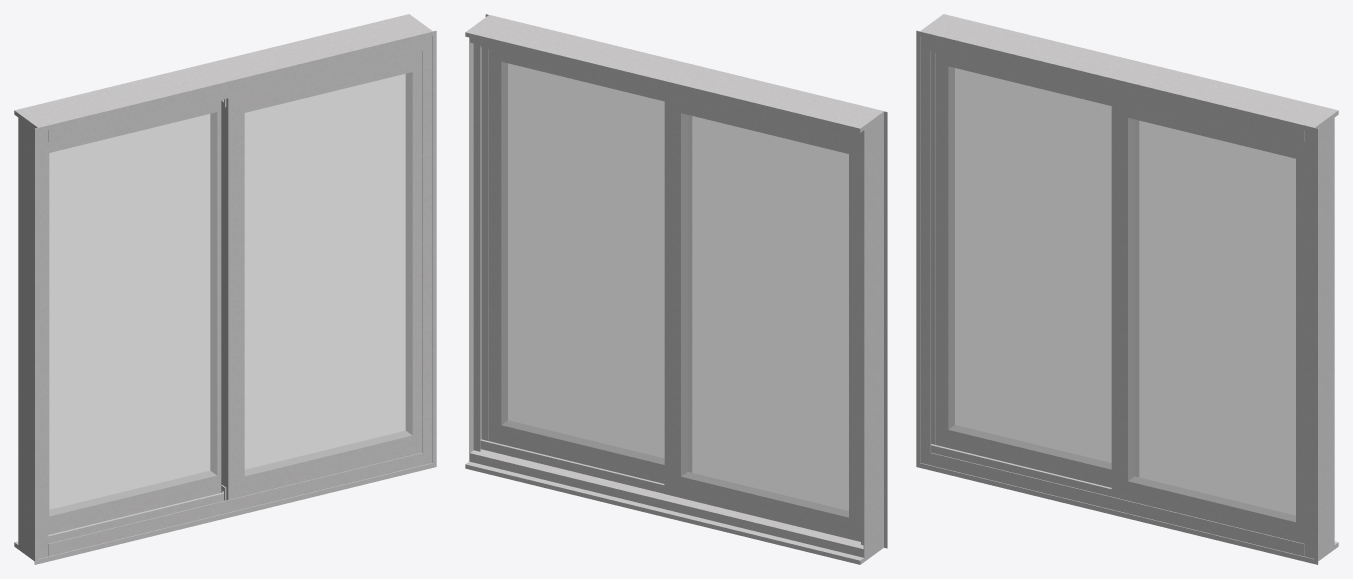
Rendered from ClassRoomWindow.fbx.
3 renders of one model, left to right at view 1: azimuth 30°, elevation 25°; view 2: azimuth 150°, elevation 25°; view 3: azimuth 330°, elevation 25°, orthographic.
Parts seen in each view (by area): view 1: ClassRoomWindow; view 2: ClassRoomWindow; view 3: ClassRoomWindow.
Boxes of the visible parts, left/top/right/bottom form: ClassRoomWindow: left=14, top=14, right=436, bottom=564; ClassRoomWindow: left=465, top=14, right=887, bottom=564; ClassRoomWindow: left=916, top=14, right=1338, bottom=564.
Bounding box in the file's own units: 242 × 251 × 25.
